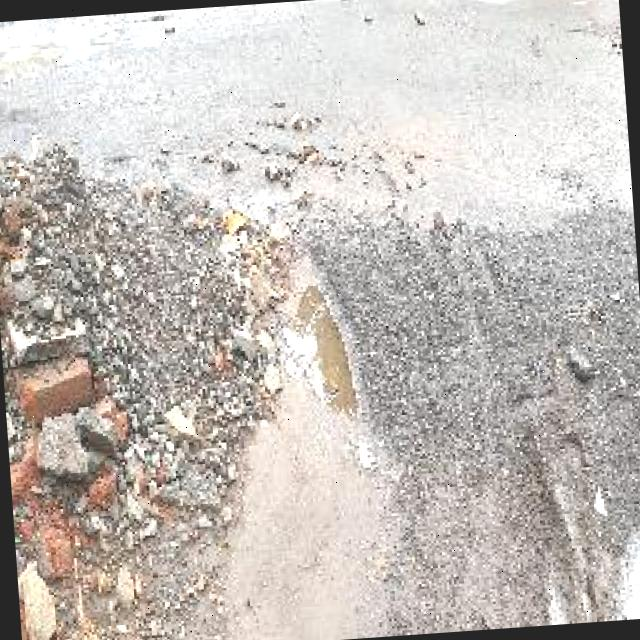stagnation: (282, 253, 362, 438)
